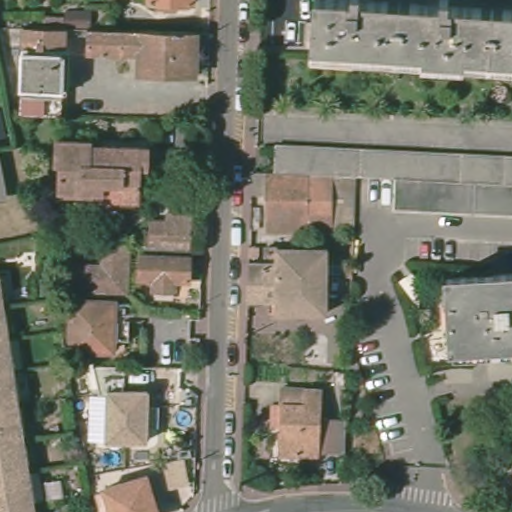pool: (170, 408, 199, 428), (98, 452, 125, 471), (67, 395, 89, 416)
